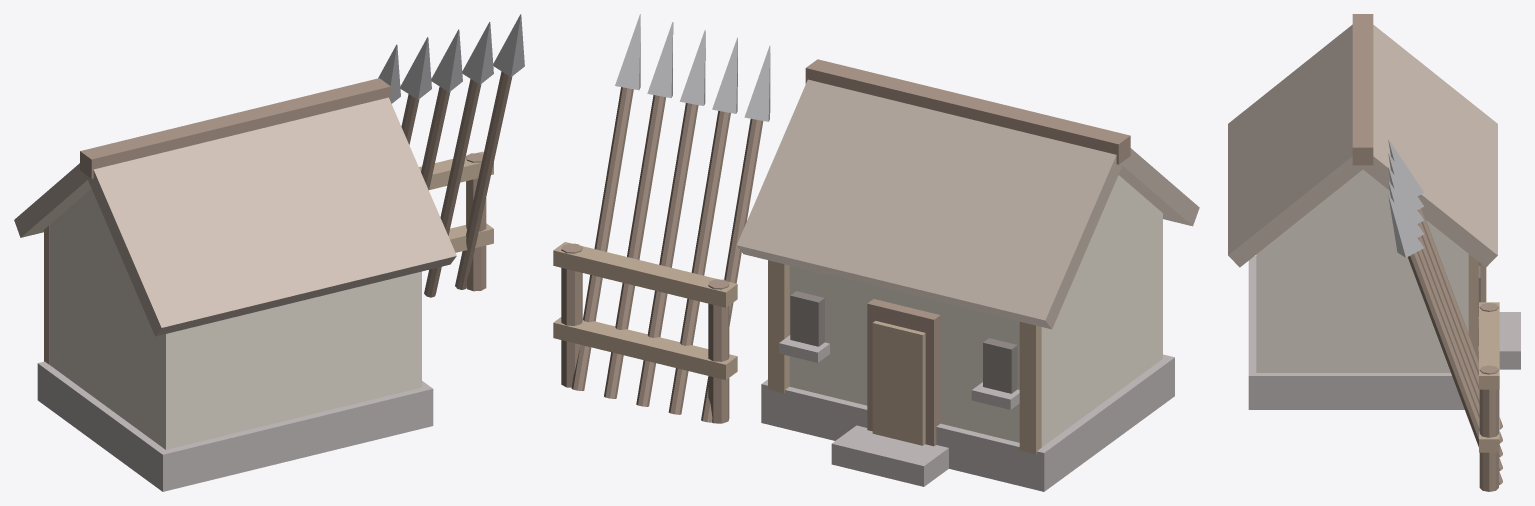
File: bld_pikehall.glb
3 views of the same model, side by side, from view 1: azimuth 30°, elevation 25°; view 2: azimuth 150°, elevation 25°; view 3: azimuth 270°, elevation 25° (orthographic). The views are drawn at different scales.
Visible parts, largest first — view 1: bld_pikehall_988171, bld_pikehall_DDCFB6, bld_pikehall_948989, bld_pikehall_705443, bld_pikehall_85858A, bld_pikehall_917154; view 2: bld_pikehall_988171, bld_pikehall_DDCFB6, bld_pikehall_705443, bld_pikehall_917154, bld_pikehall_948989, bld_pikehall_85858A, bld_pikehall_514744; view 3: bld_pikehall_988171, bld_pikehall_DDCFB6, bld_pikehall_705443, bld_pikehall_948989, bld_pikehall_917154, bld_pikehall_85858A.
Part boxes in pixels (x1,y1,x2,y2): bld_pikehall_988171: [14, 97, 456, 336]; bld_pikehall_DDCFB6: [49, 189, 421, 449]; bld_pikehall_948989: [37, 361, 433, 491]; bld_pikehall_705443: [80, 71, 512, 297]; bld_pikehall_85858A: [378, 14, 524, 103]; bld_pikehall_917154: [44, 151, 493, 364]; bld_pikehall_988171: [737, 79, 1199, 329]; bld_pikehall_DDCFB6: [789, 175, 1162, 446]; bld_pikehall_705443: [561, 59, 1130, 446]; bld_pikehall_917154: [553, 242, 1041, 454]; bld_pikehall_948989: [761, 335, 1174, 491]; bld_pikehall_85858A: [615, 14, 770, 121]; bld_pikehall_514744: [790, 291, 1017, 393]; bld_pikehall_988171: [1228, 24, 1497, 267]; bld_pikehall_DDCFB6: [1256, 169, 1468, 372]; bld_pikehall_705443: [1352, 14, 1502, 491]; bld_pikehall_948989: [1248, 255, 1520, 409]; bld_pikehall_917154: [1468, 254, 1499, 452]; bld_pikehall_85858A: [1388, 139, 1424, 257].
Size of the model in its own units: 1.14 by 0.7343 by 0.672.
